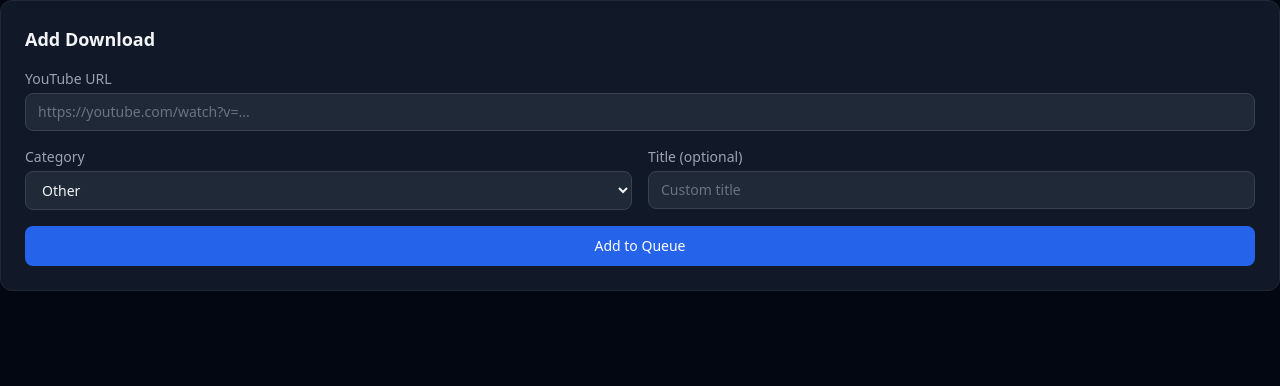
Test case: DownloadForm › hides season/episode when switching away from TV
The width and height of the screenshot is (1280, 386).
Select "TV" in the dropdown labelled "Category" at x=328, y=190, box left=25, top=171, right=632, bottom=210
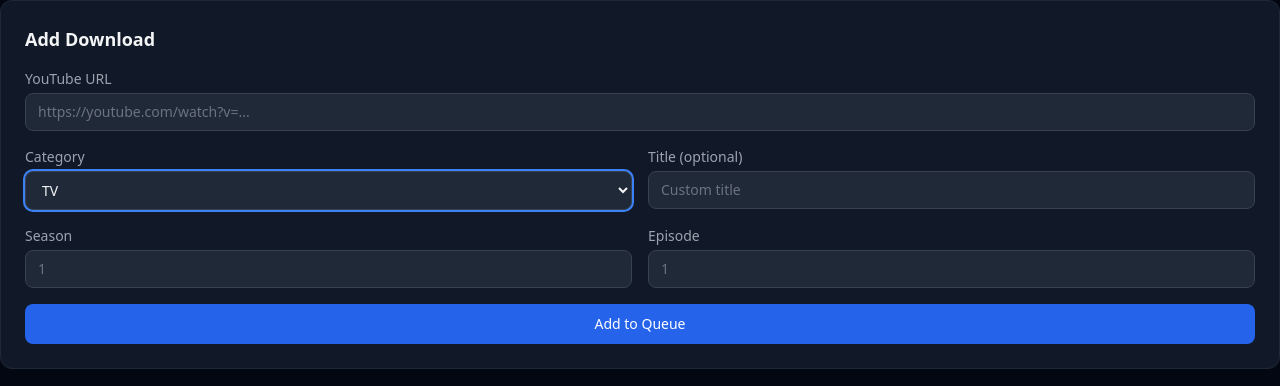
Check: the number field labelled "Season" is shown, box left=25, top=250, right=632, bottom=288
Select "Movies" in the dropdown labelled "Category" at x=328, y=190, box left=25, top=171, right=632, bottom=210
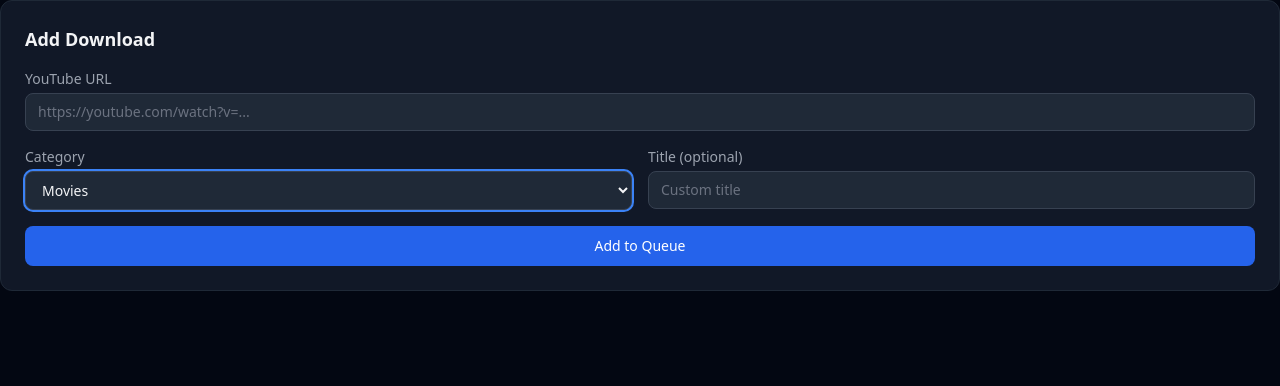
Check: the label labelled "Season" is gone
